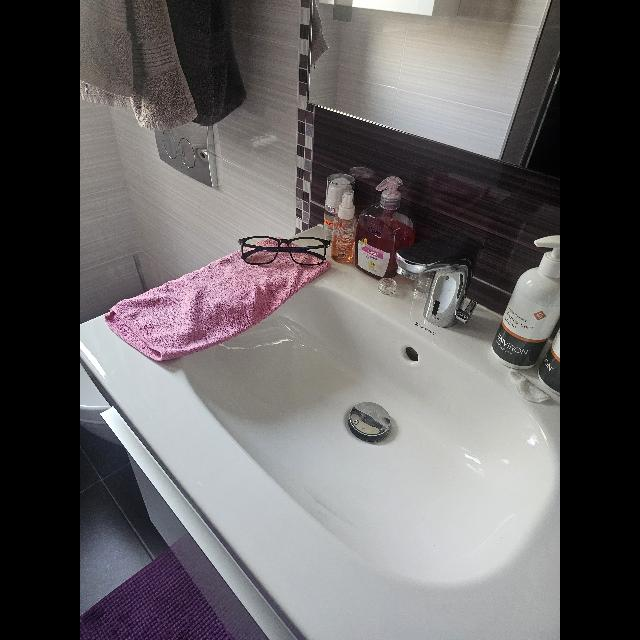glasses: (238, 237, 330, 266)
